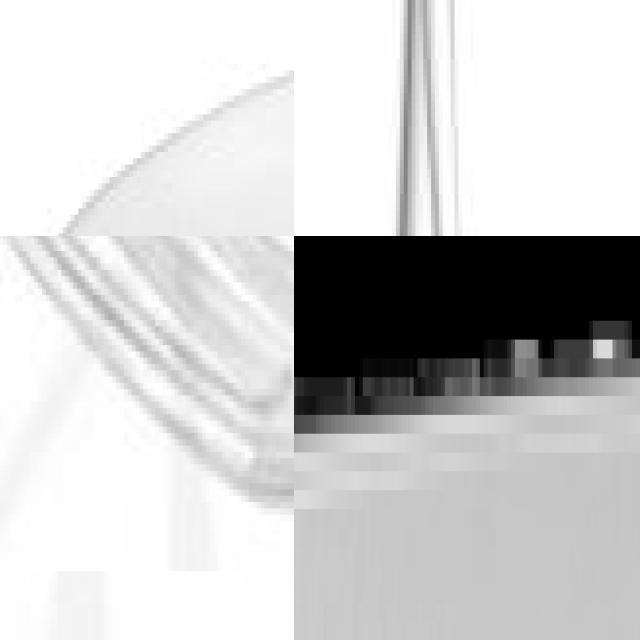forks: (0, 236, 294, 571), (0, 0, 294, 236)
